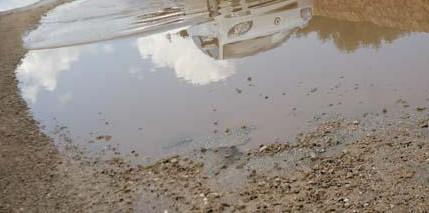pothole: (10, 0, 429, 185)
